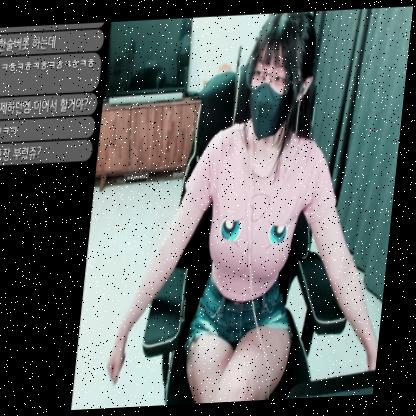streamer: (111, 9, 414, 410)
